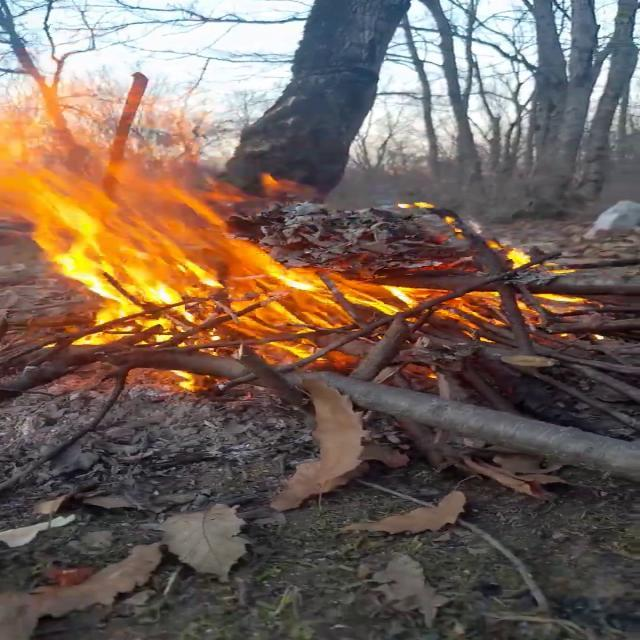Fire: (0, 202, 601, 368), (2, 64, 292, 392)
